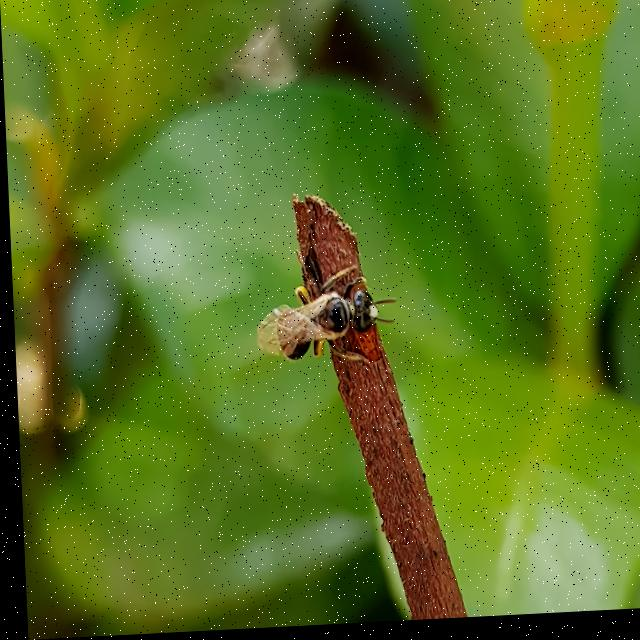Braunsapis: (247, 252, 403, 378)
